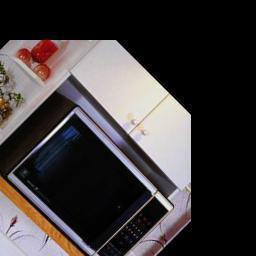Electrodomestico: (0, 88, 178, 256)
